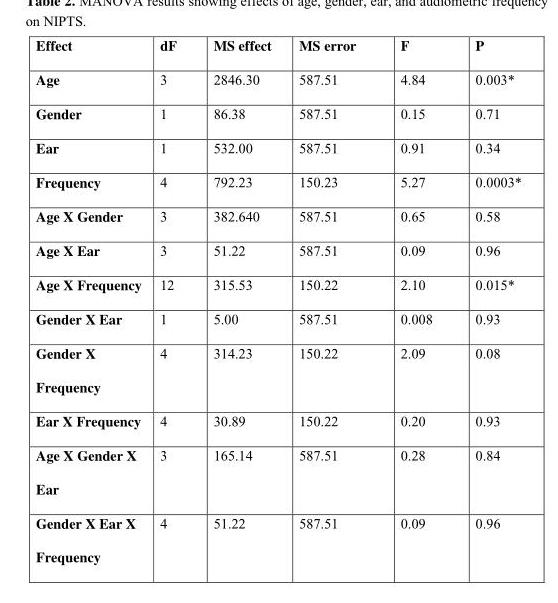table: (35, 34, 520, 566)
table column: (35, 34, 150, 566), (284, 34, 377, 566), (194, 34, 284, 566), (377, 34, 453, 566), (453, 34, 520, 566), (150, 34, 194, 566)
table column header: (35, 34, 520, 61)
table row: (35, 335, 520, 403), (35, 437, 520, 505), (35, 505, 520, 566), (35, 61, 520, 96), (35, 232, 520, 267), (35, 96, 520, 130), (35, 130, 520, 164), (35, 164, 520, 198), (35, 198, 520, 232), (35, 267, 520, 301), (35, 301, 520, 335), (35, 403, 520, 437), (35, 34, 520, 61)
